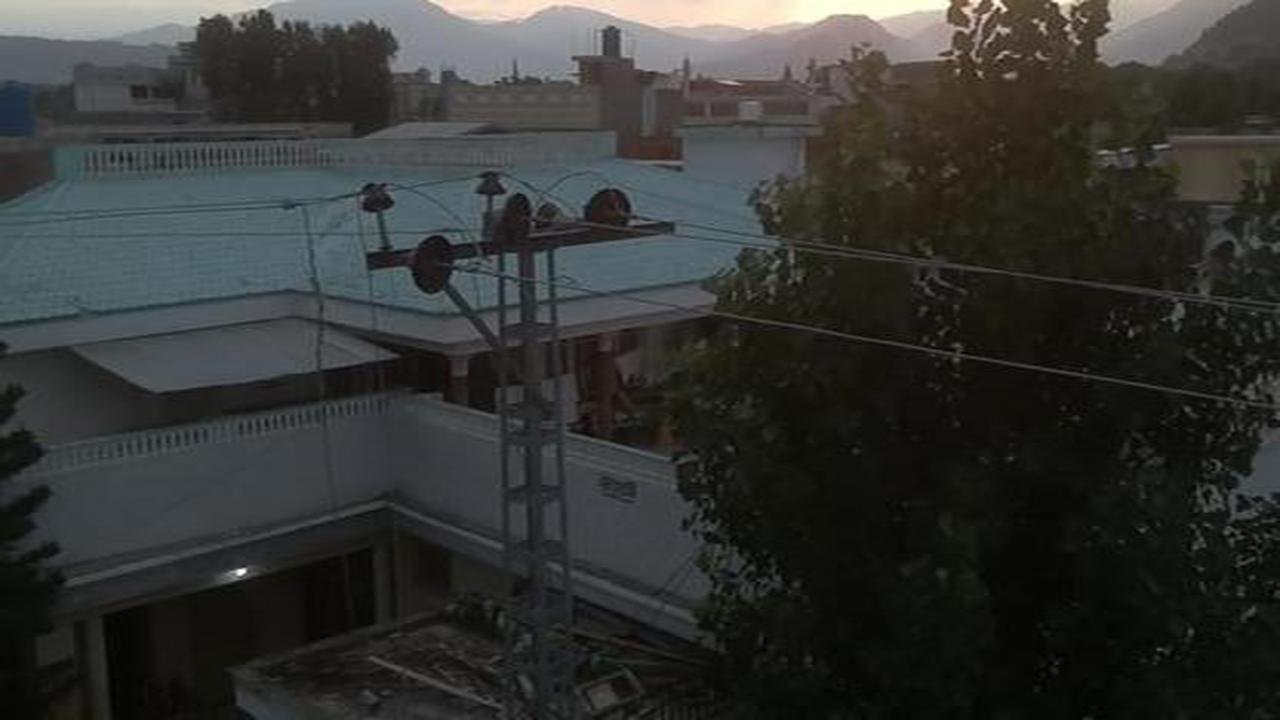insulator_disc: (412, 230, 458, 292), (582, 183, 634, 233), (500, 191, 532, 244)
insulator_pin: (359, 177, 396, 217), (478, 169, 505, 200)
